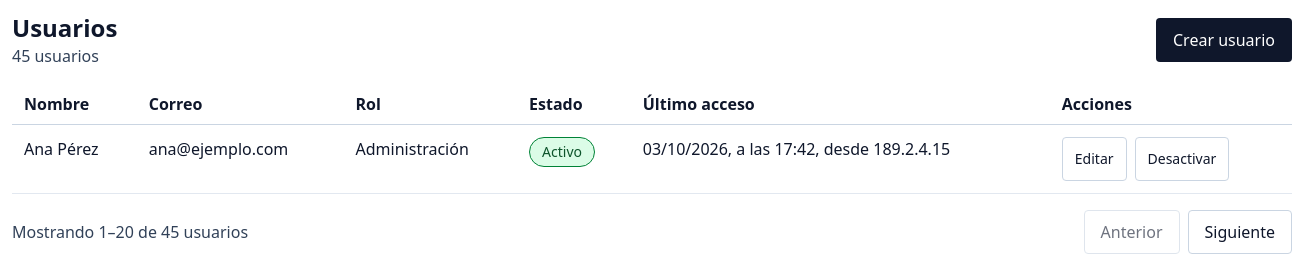
Test: UsersPage · listado › pagina con limit/offset y conserva el estado al cambiar de página
This screenshot has width=1304, height=275.
Expected: the text "ana@ejemplo.com" is shown, [137,125,344,194]
Expected: the button "Anterior" is disabled, [1084,210,1180,254]
Click the button "Siguiente".
click(1240, 232)  # box [1188,210,1292,254]
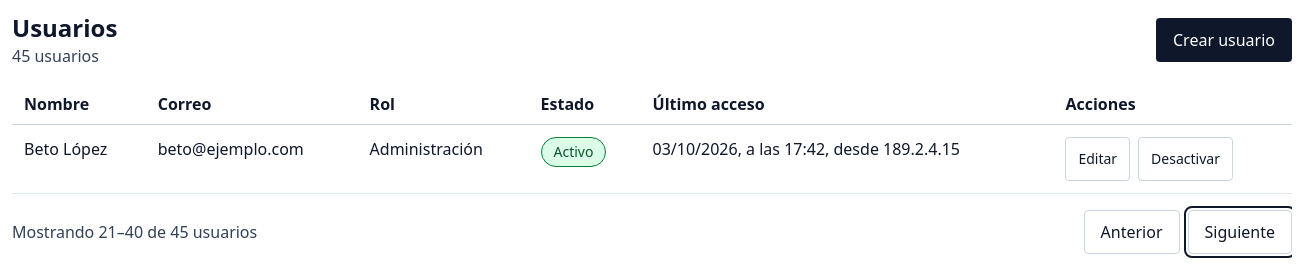
Now the text "beto@ejemplo.com" is shown, box [146,125,358,194]
Now the button "Anterior" is enabled, box [1084,210,1180,254]
